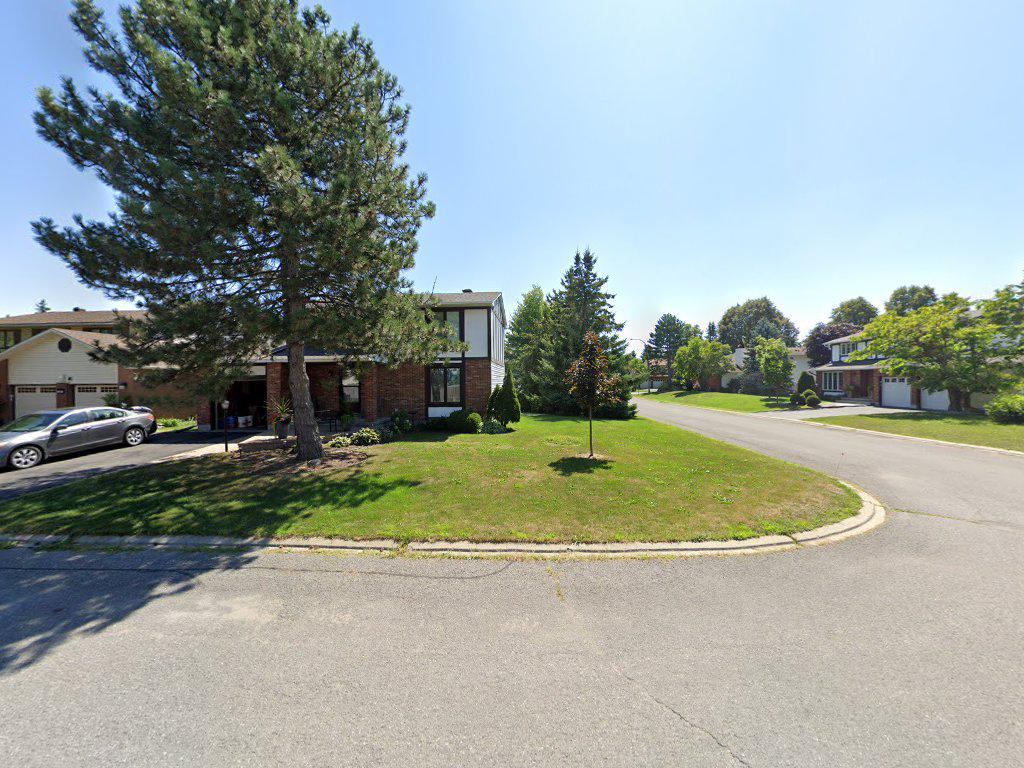trunk: (284, 337, 325, 470)
